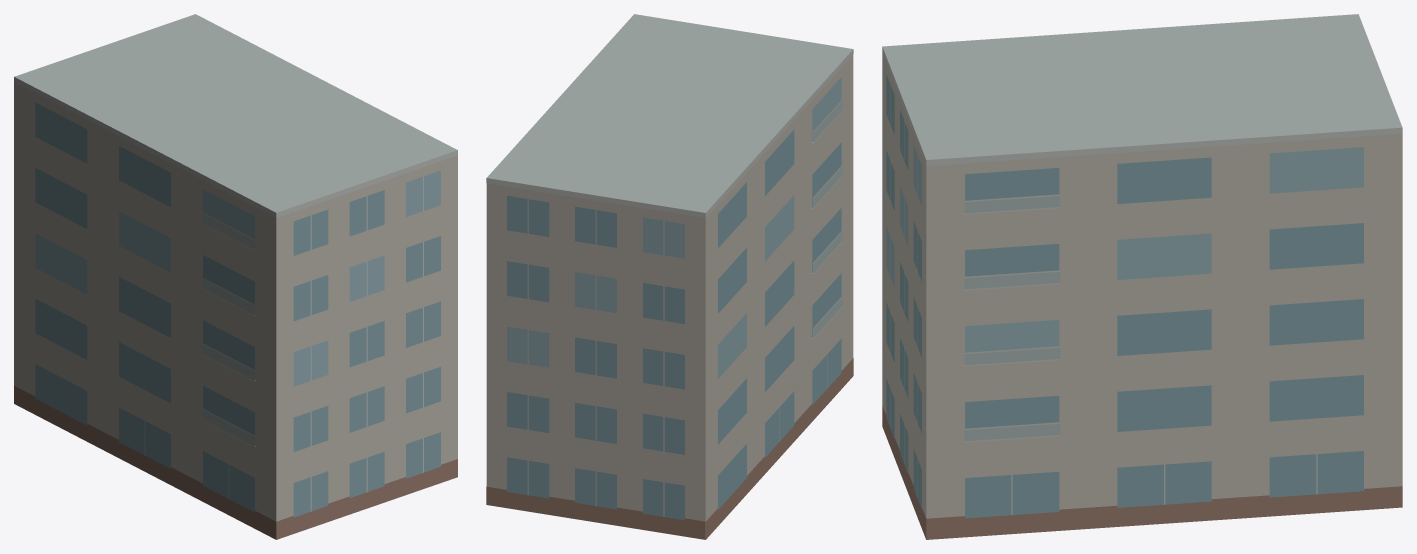
Rendered from survey-upis-32968969.glb.
The picture shows the model from 3 angles, left to right: view 1: azimuth 30°, elevation 25°; view 2: azimuth 150°, elevation 25°; view 3: azimuth 270°, elevation 25°; orthographic projection. The views are drawn at different scales.
Parts seen in each view (by area): view 1: survey-upis-32968969.tmp; view 2: survey-upis-32968969.tmp; view 3: survey-upis-32968969.tmp.
Part boxes in pixels (left/top/right/bottom): survey-upis-32968969.tmp: left=14, top=14, right=457, bottom=539; survey-upis-32968969.tmp: left=486, top=14, right=853, bottom=539; survey-upis-32968969.tmp: left=882, top=14, right=1402, bottom=539.
Bounding box in the file's own units: 12.58 × 15.25 × 18.94.
